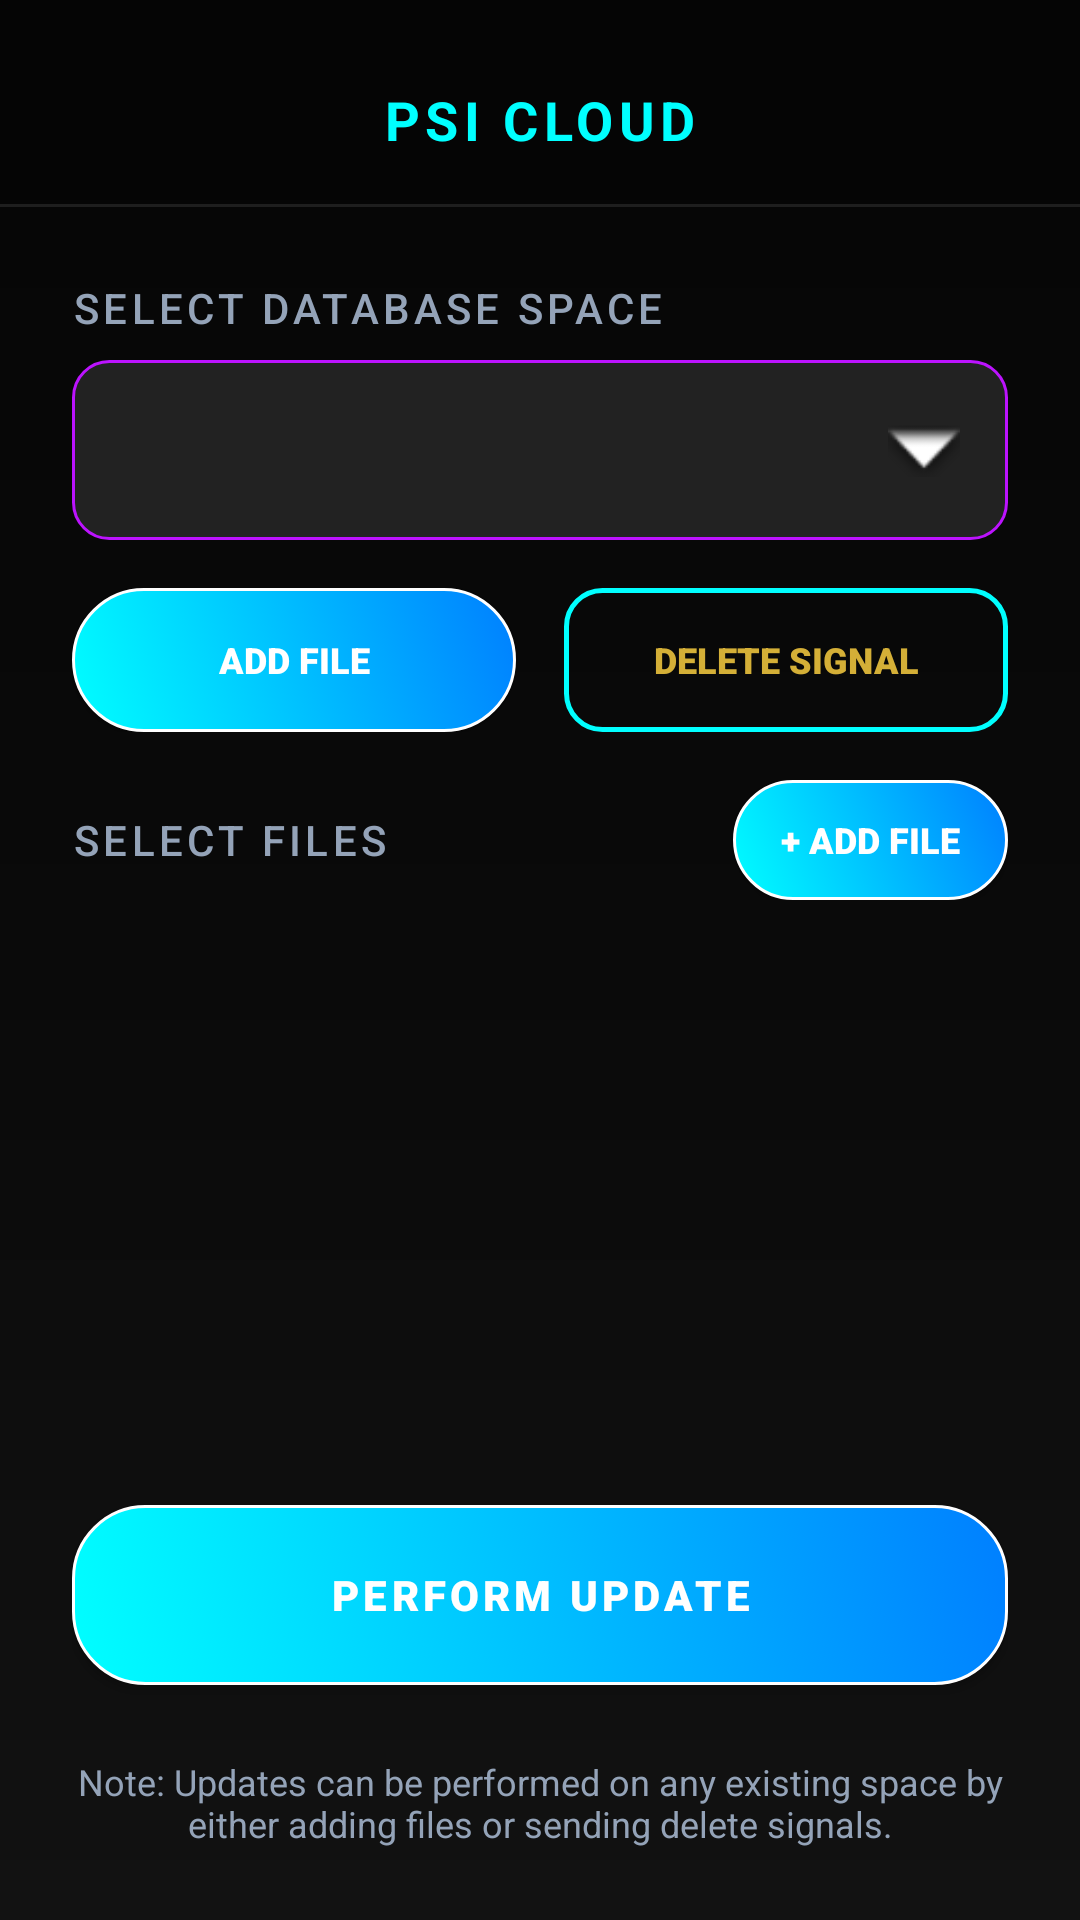

Screen size 1080w x 1920h. Icon name, then its center in pixels as (x,y):
Dropdown Arrow: (924,449)
